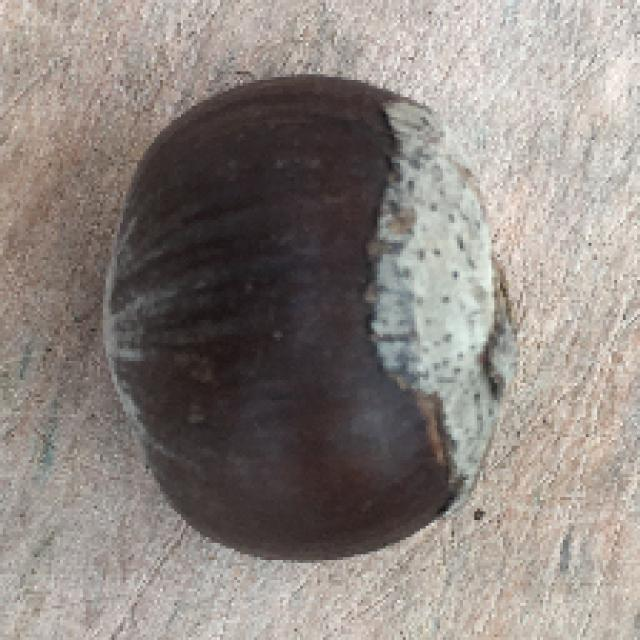damagedHazelnut: (94, 66, 534, 573)
